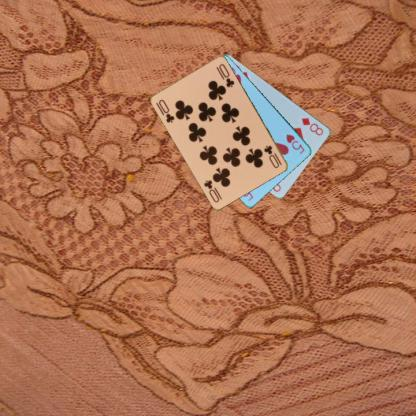10c: (261, 143, 283, 169), (156, 97, 176, 124)
5h: (284, 132, 306, 155)
8d: (299, 115, 325, 137)
